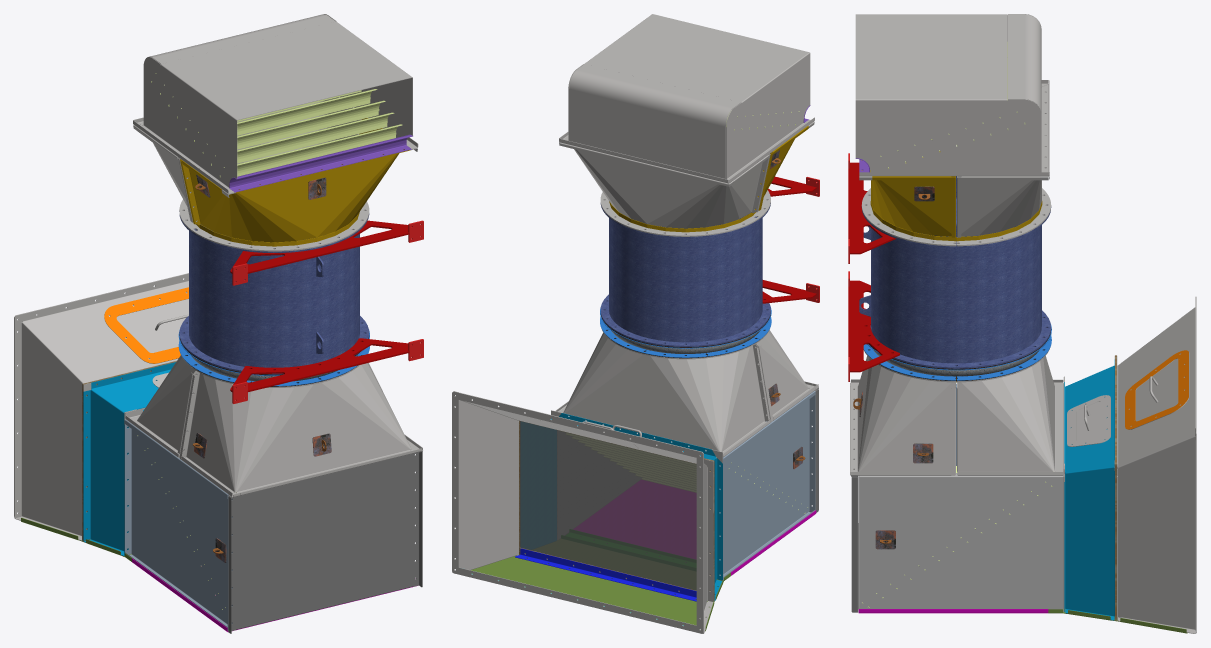
Rendered from Sestava  chlazení .glb.
3 renders of one model, left to right at view 1: azimuth 30°, elevation 25°; view 2: azimuth 150°, elevation 25°; view 3: azimuth 270°, elevation 25°, orthographic. The views are drawn at different scales.
Parts seen in each view (by area): view 1: Těleso1 (×6), Solid1 (×6), Solid2 (×5), Těleso2 (×5); view 2: Těleso1 (×9), Solid1 (×7), Solid2 (×4), Těleso2; view 3: Solid1 (×7), Těleso1 (×7), Solid2 (×4), Těleso2.
Boxes of the visible parts, box(x1,y1,x2,y2) form: Těleso1 (×6): box(83, 212, 422, 633); Solid1 (×6): box(133, 14, 418, 391); Solid2 (×5): box(130, 97, 417, 495); Těleso2 (×5): box(14, 89, 402, 540); Těleso1 (×9): box(471, 201, 816, 631); Solid1 (×7): box(452, 14, 816, 633); Solid2 (×4): box(557, 126, 815, 453); Těleso2: box(452, 392, 713, 633); Solid1 (×7): box(848, 14, 1051, 380); Těleso1 (×7): box(851, 350, 1189, 633); Solid2 (×4): box(850, 92, 1064, 475); Těleso2: box(1117, 299, 1195, 633).
Bounding box in the file's own units: 1.91 × 3.33 × 2.06.
Materials: 26 (8 with a texture image).
